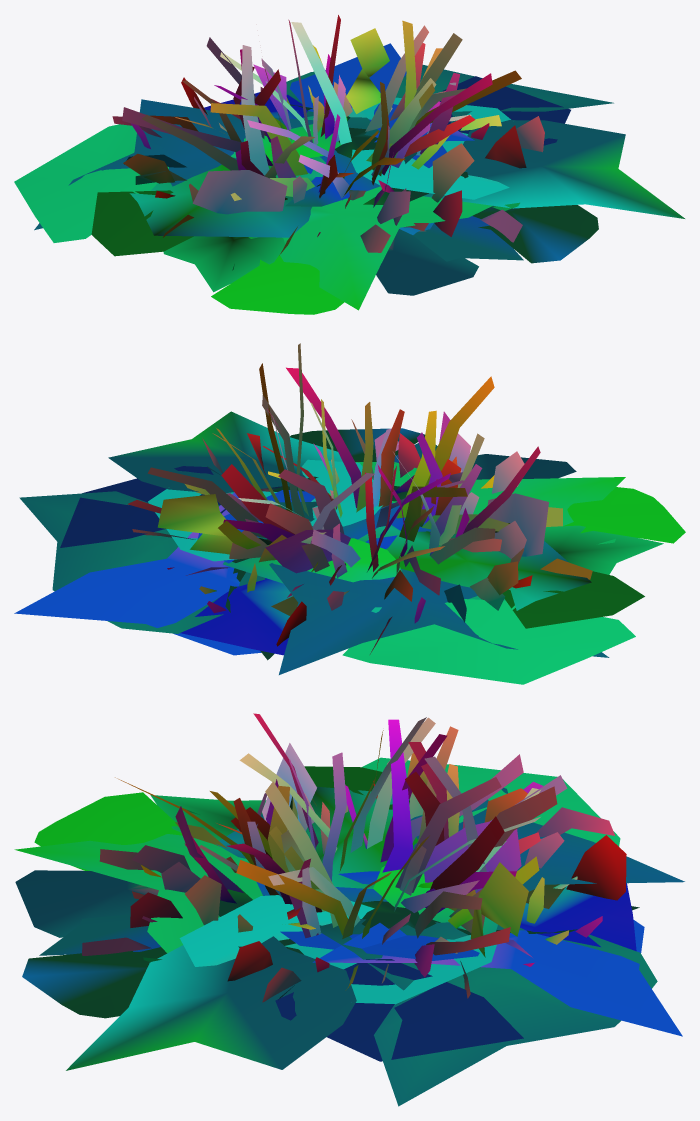
Rendered from Wild_Grass_vdilbaiia_Mid_vdilbaiia_VarE_LOD1.fbx.
3 renders of one model, top to bottom at view 1: azimuth 30°, elevation 25°; view 2: azimuth 150°, elevation 25°; view 3: azimuth 270°, elevation 25°, orthographic. The views are drawn at different scales.
Parts seen in each view (by area): view 1: _vhhj_VarE_LOD2; view 2: _vhhj_VarE_LOD2; view 3: _vhhj_VarE_LOD2.
Boxes of the visible parts, bbox=[...] form: _vhhj_VarE_LOD2: bbox=[14, 15, 684, 314]; _vhhj_VarE_LOD2: bbox=[14, 343, 685, 684]; _vhhj_VarE_LOD2: bbox=[14, 713, 684, 1106].
Size of the model in its own units: 88.15 by 25.15 by 72.73.
